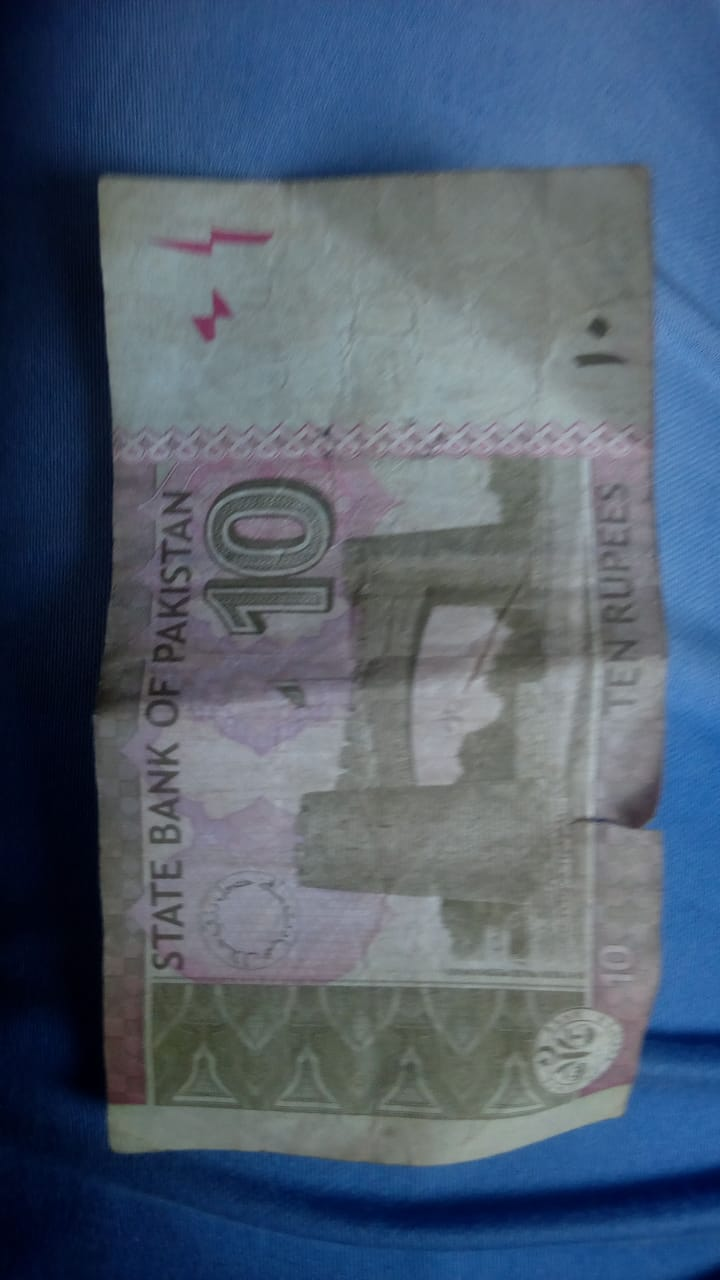10 rupee: (85, 158, 662, 1163)
